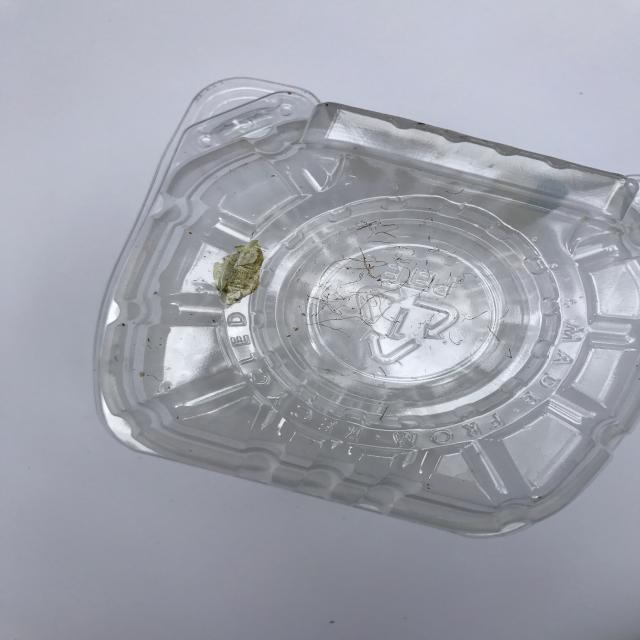plastic: (89, 76, 640, 542)
